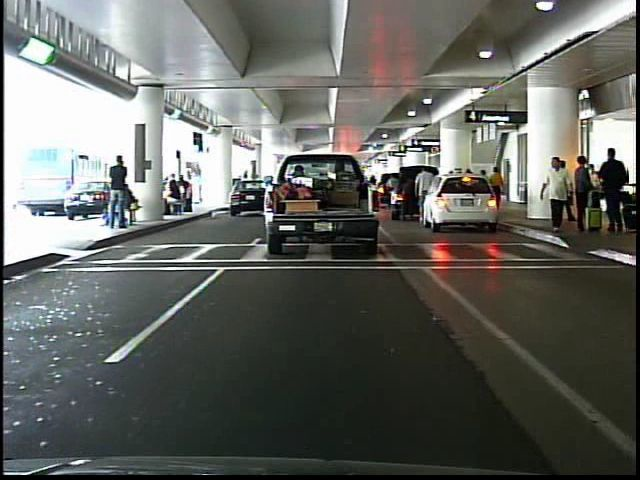person: (538, 147, 573, 238), (597, 146, 628, 237), (572, 152, 595, 233), (413, 162, 438, 228), (111, 155, 132, 233), (492, 164, 507, 217), (191, 168, 203, 210)
